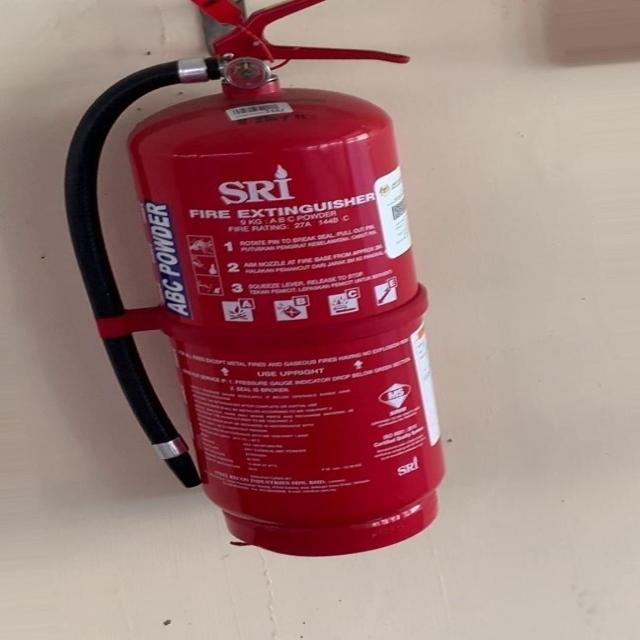fire_extinguisher: (49, 0, 455, 561)
